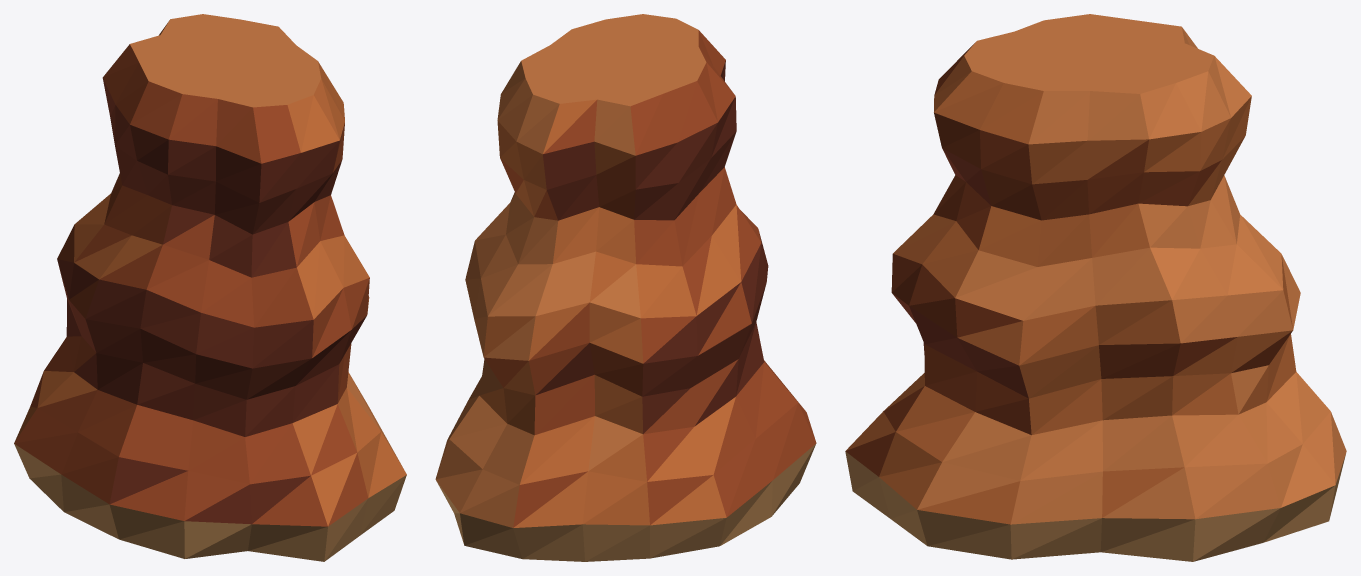
File: rockA.glb
3 views of the same model, side by side, from view 1: azimuth 30°, elevation 25°; view 2: azimuth 150°, elevation 25°; view 3: azimuth 270°, elevation 25° (orthographic). The views are drawn at different scales.
Visible parts, largest first — view 1: RedRockKitA; view 2: RedRockKitA; view 3: RedRockKitA.
Part boxes in pixels (x1,y1,x2,y2): RedRockKitA: (14, 14, 406, 561); RedRockKitA: (435, 14, 816, 561); RedRockKitA: (845, 14, 1346, 561).
Size of the model in its own units: 4.73 by 6.6 by 6.76.
